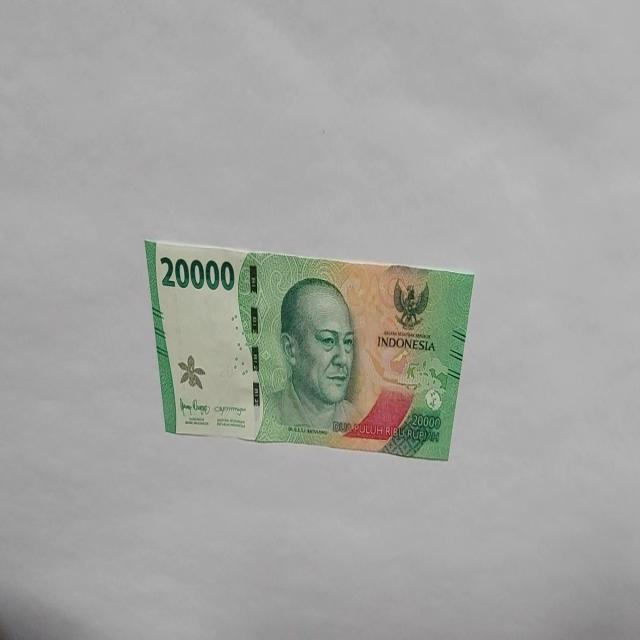dua puluh ribu rupiah: (143, 236, 474, 462)
